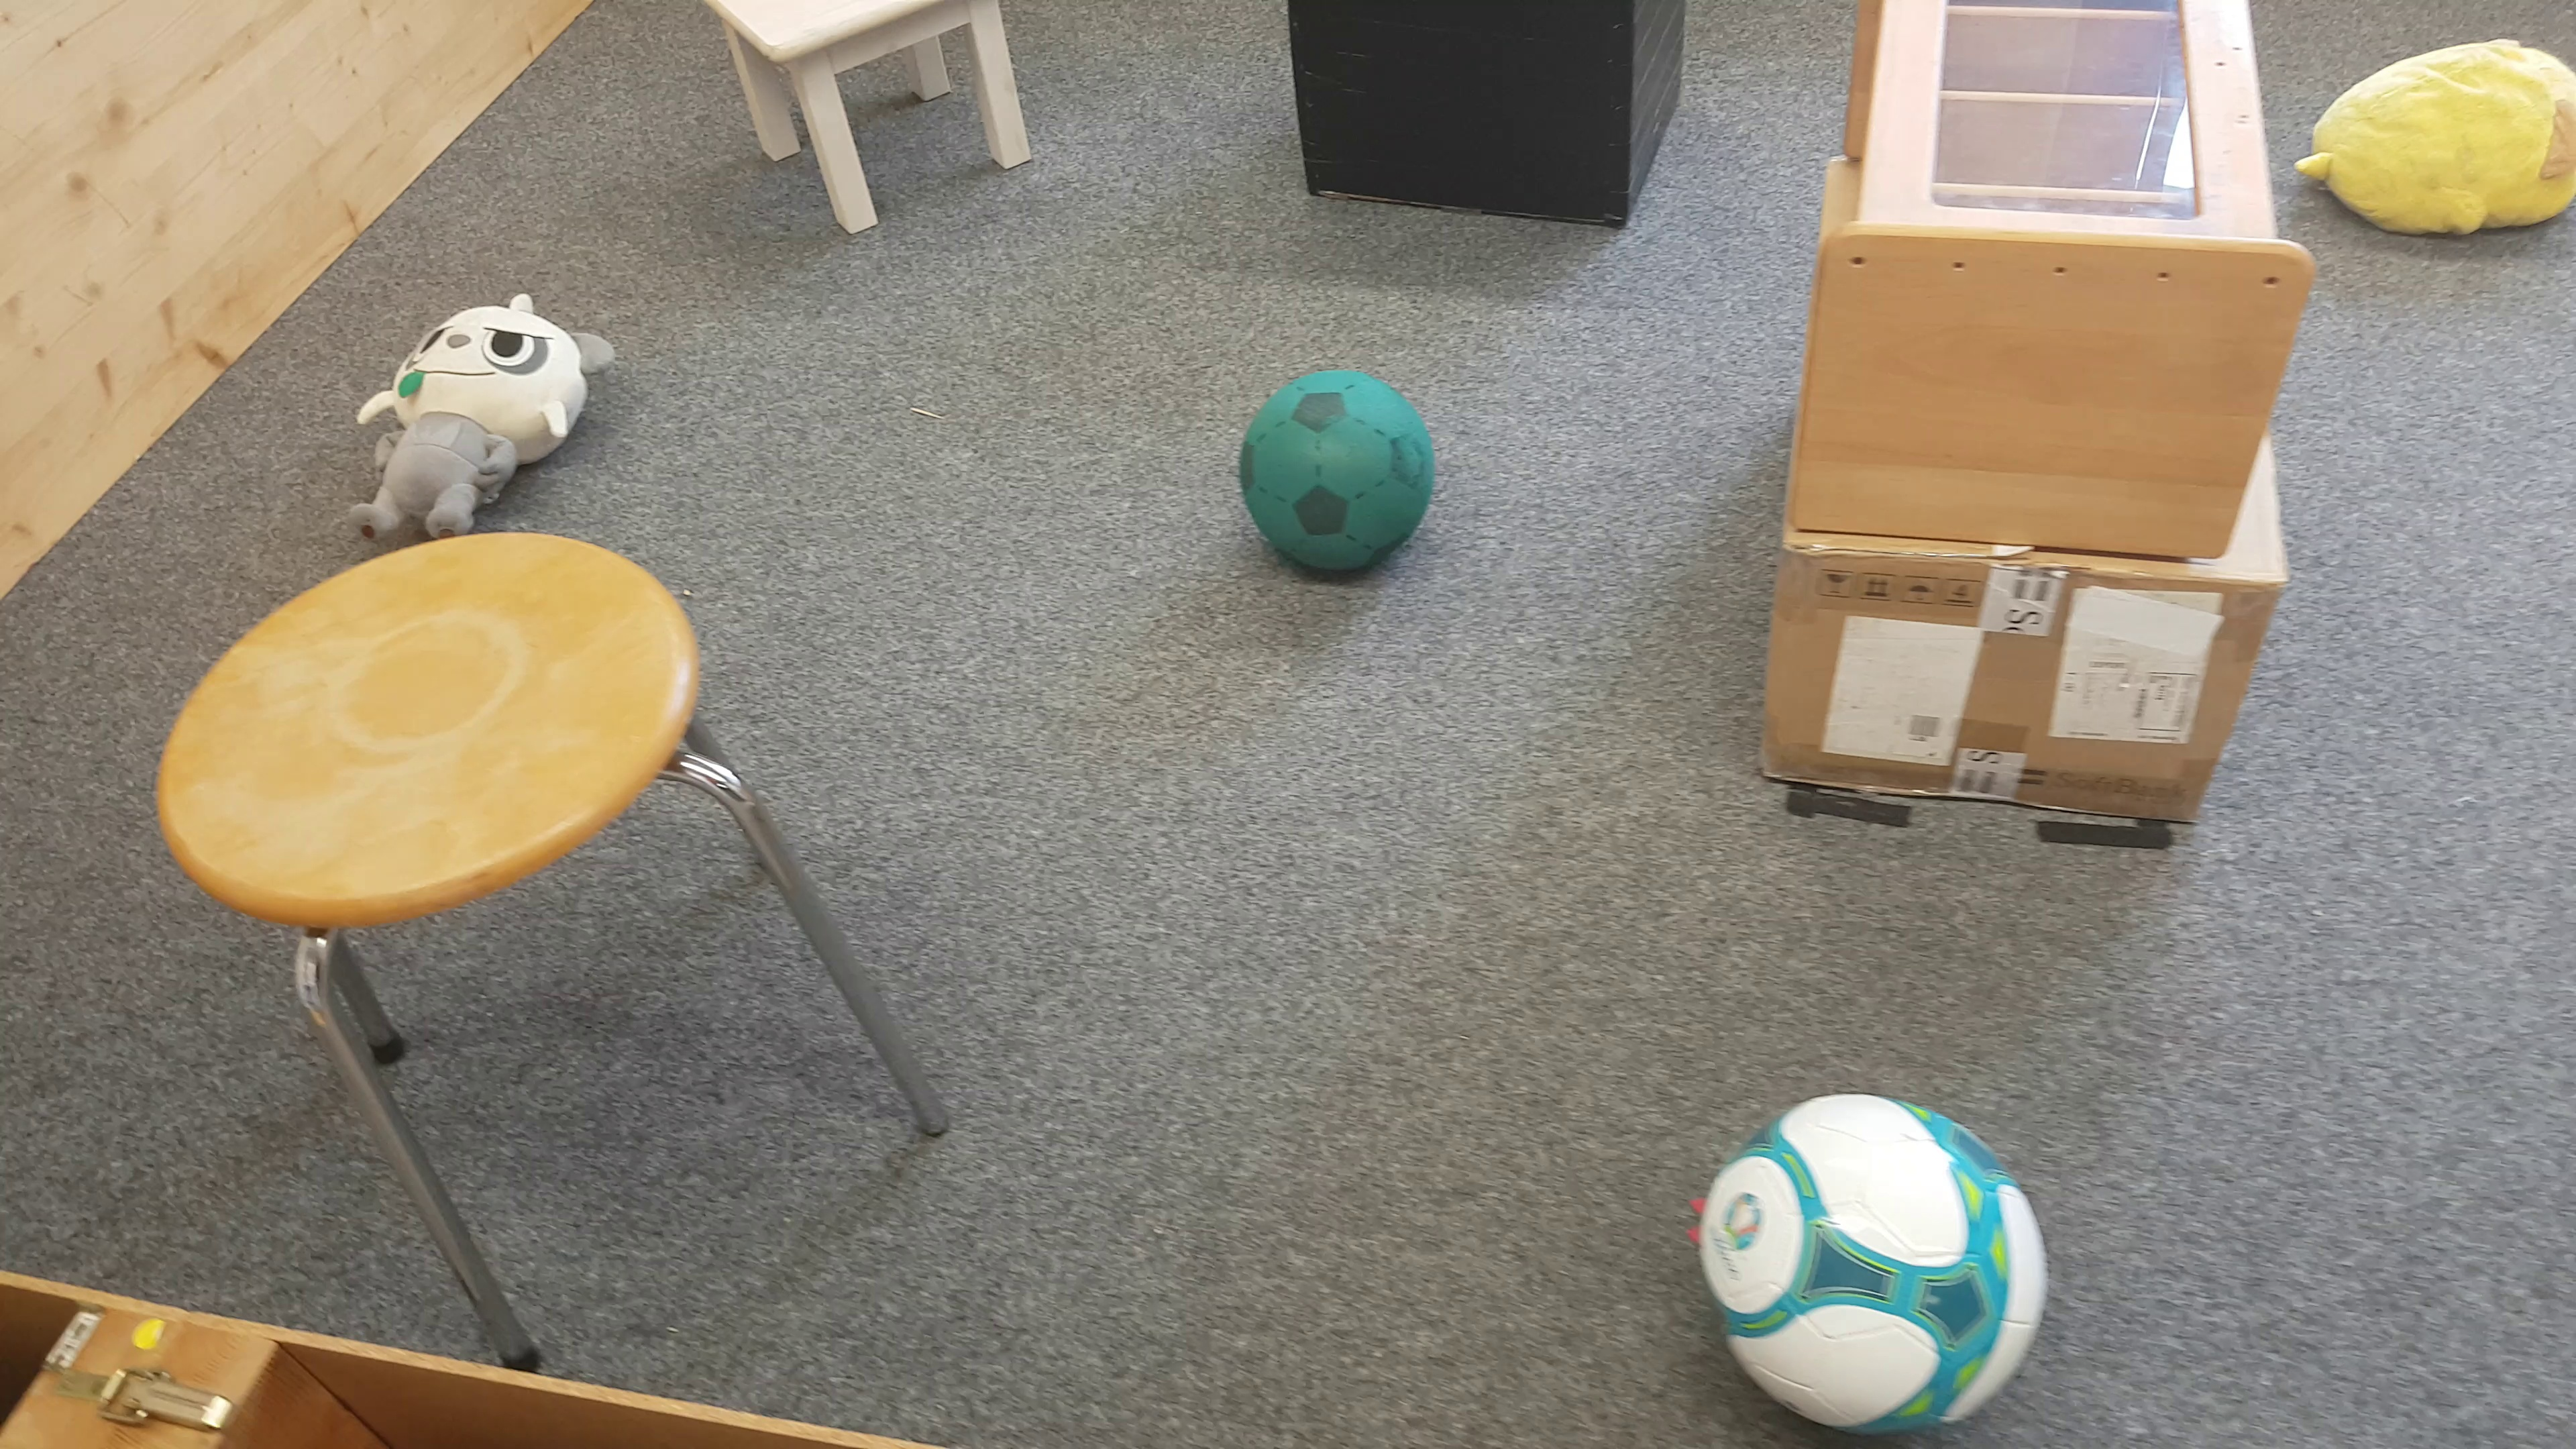grasp: (347, 294, 614, 531), (2305, 25, 2576, 232)
kick: (1704, 1093, 2042, 1435), (1237, 372, 1433, 580)
push: (1292, 4, 1686, 226)
